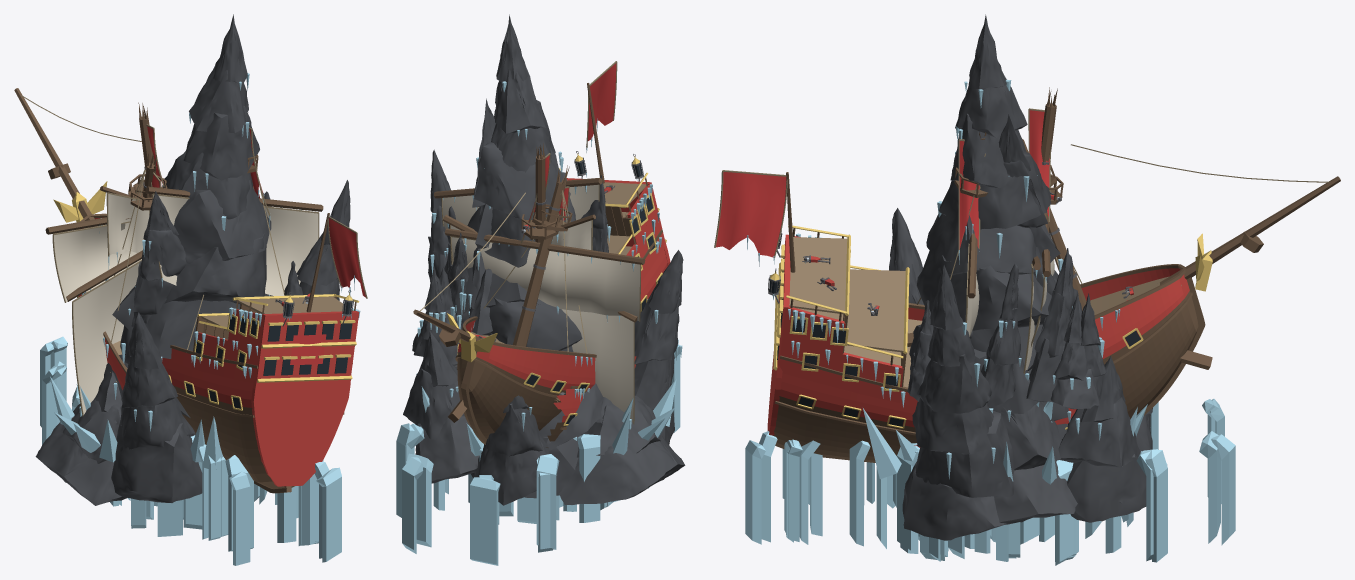
File: maelstrom_kit.glb
3 renders of one model, left to right at view 1: azimuth 30°, elevation 25°; view 2: azimuth 150°, elevation 25°; view 3: azimuth 270°, elevation 25°, orthographic. The views are drawn at different scales.
Visible parts, largest first — view 1: wreck_stern, rock_spire_a, wreck_mast, wreck_bow, rock_crag, wreck_keel, rock_spire_b, wreck_deck; view 2: rock_spire_a, wreck_bow, rock_crag, rock_spire_b, wreck_stern, wreck_mast, wreck_keel, wreck_deck; view 3: wreck_stern, rock_spire_a, rock_crag, wreck_bow, rock_spire_b, wreck_keel, wreck_deck, wreck_mast.
Boxes of the visible parts, x1=… form: wreck_stern: x1=145, y1=112, x2=367, y2=562; rock_spire_a: x1=50, y1=14, x2=350, y2=502; wreck_mast: x1=66, y1=102, x2=165, y2=416; wreck_bow: x1=14, y1=88, x2=167, y2=519; rock_crag: x1=35, y1=191, x2=303, y2=505; wreck_keel: x1=40, y1=336, x2=323, y2=565; rock_spire_b: x1=76, y1=191, x2=186, y2=410; wreck_deck: x1=42, y1=361, x2=146, y2=528; rock_spire_a: x1=421, y1=14, x2=683, y2=505; wreck_bow: x1=413, y1=165, x2=645, y2=524; rock_crag: x1=412, y1=206, x2=685, y2=504; rock_spire_b: x1=403, y1=98, x2=633, y2=483; wreck_stern: x1=434, y1=61, x2=670, y2=311; wreck_mast: x1=443, y1=143, x2=637, y2=424; wreck_keel: x1=402, y1=344, x2=680, y2=565; wreck_deck: x1=396, y1=365, x2=649, y2=552; wreck_stern: x1=714, y1=132, x2=990, y2=558; rock_spire_a: x1=863, y1=14, x2=1152, y2=540; rock_crag: x1=907, y1=248, x2=1106, y2=524; wreck_bow: x1=948, y1=139, x2=1340, y2=551; rock_spire_b: x1=998, y1=114, x2=1147, y2=522; wreck_keel: x1=782, y1=332, x2=1235, y2=558; wreck_deck: x1=914, y1=402, x2=1167, y2=565; wreck_mast: x1=1023, y1=87, x2=1063, y2=373.
Bounding box in the file's own units: 26.12 × 43.77 × 46.6.
